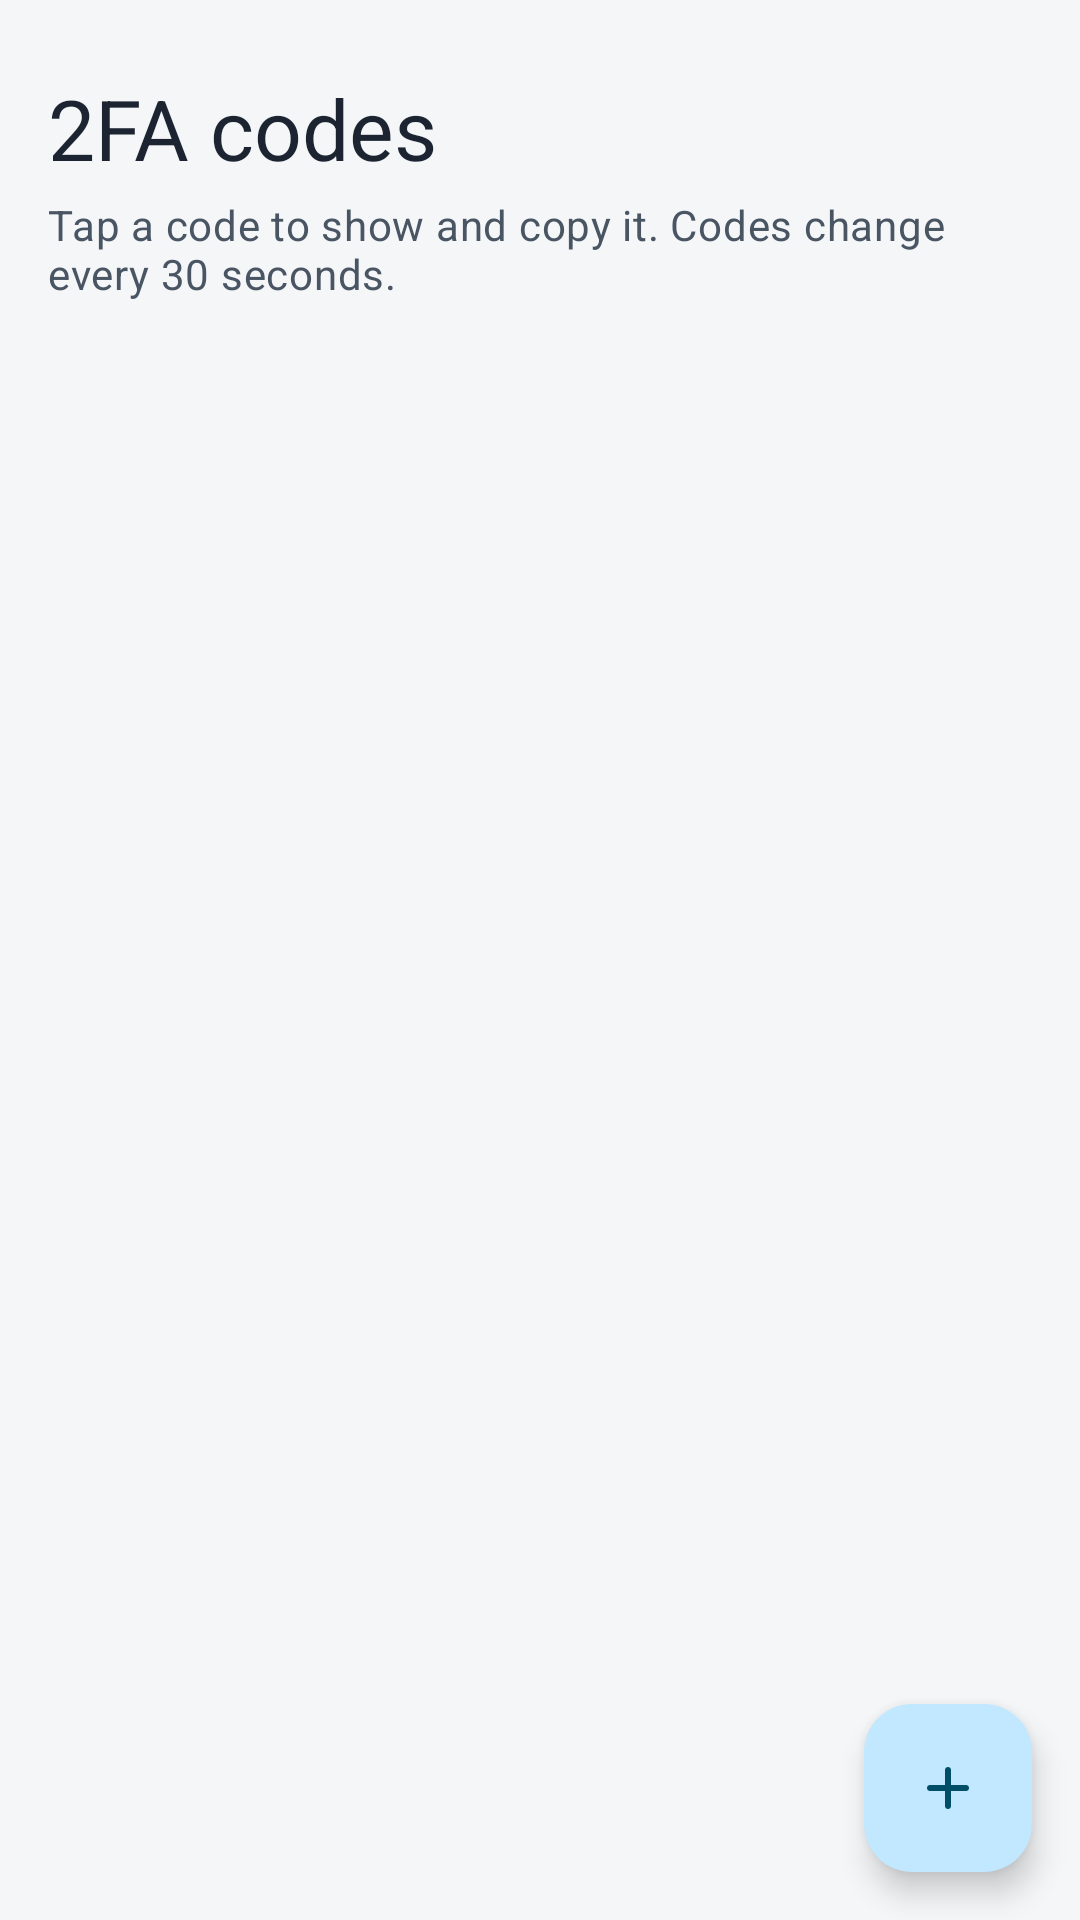

Icon bounding boxes for this 1080 x 1920 phone screenshot, format [x1,y1,x2,y2]:
Link a 2FA code: [864,1704,1032,1872]
